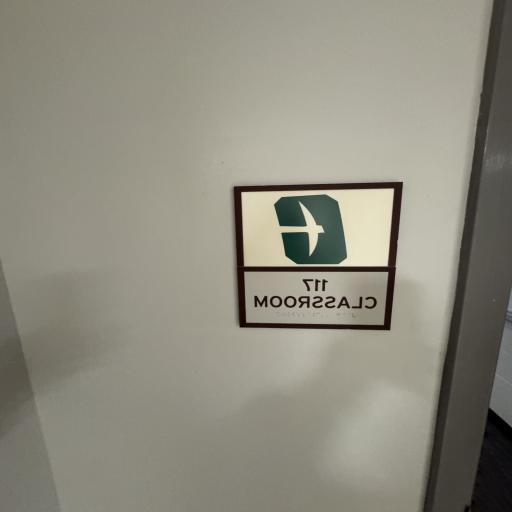room 117 sign: (233, 177, 405, 327)
